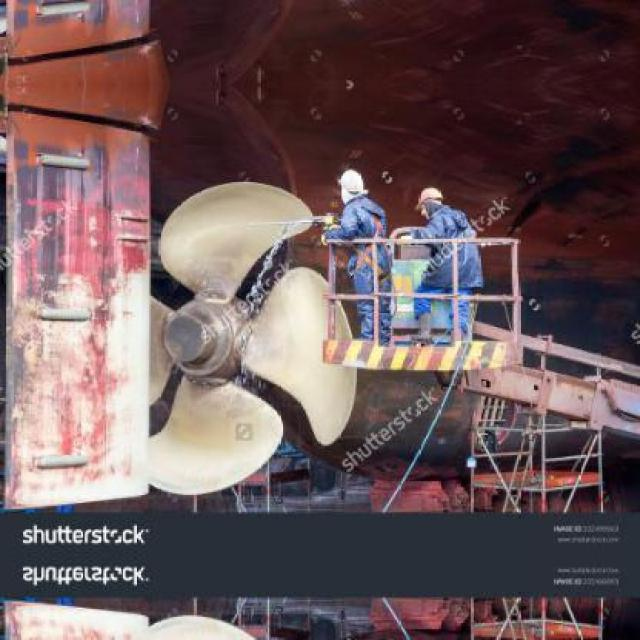helmet: (336, 160, 372, 208), (416, 183, 450, 213)
